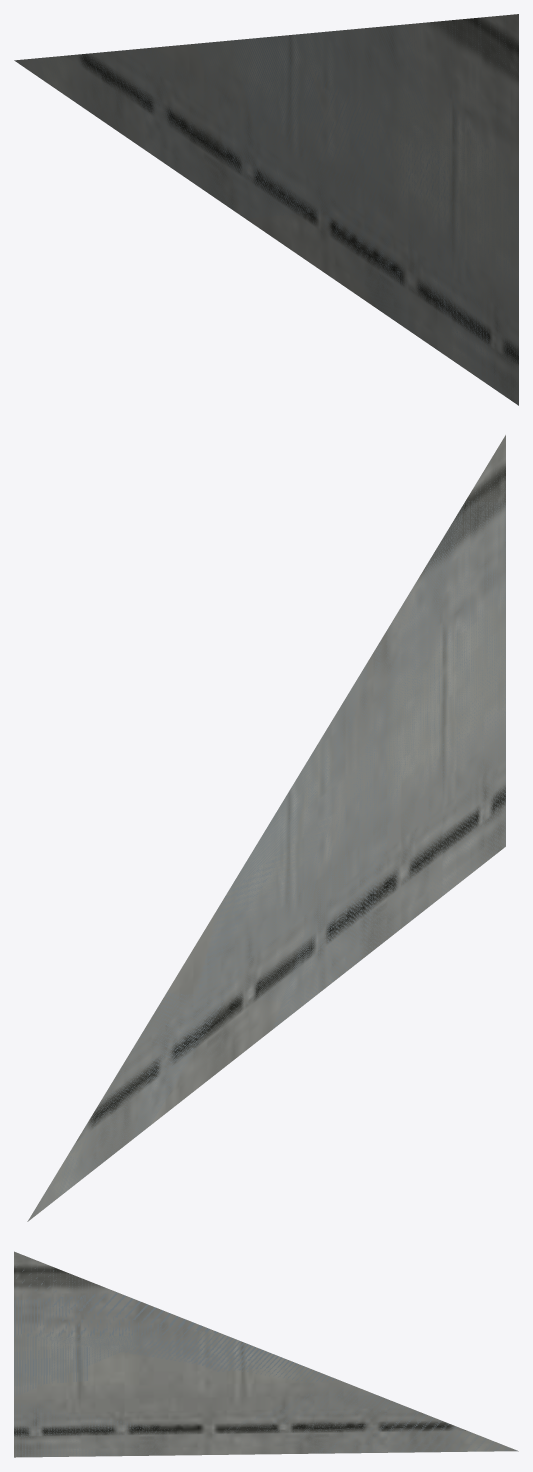
The model's file is 人民英雄纪念碑7.dae.
3 views of the same model, one above another, from view 1: azimuth 30°, elevation 25°; view 2: azimuth 150°, elevation 25°; view 3: azimuth 270°, elevation 25° (orthographic). The views are drawn at different scales.
Visible parts, largest first — view 1: SketchUp; view 2: SketchUp; view 3: SketchUp.
Part boxes in pixels (bbox=[...]): SketchUp: bbox=[14, 14, 518, 405]; SketchUp: bbox=[27, 435, 505, 1221]; SketchUp: bbox=[14, 1251, 518, 1457].
Bounding box in the file's own units: 4.67 × 157 × 70.87.
